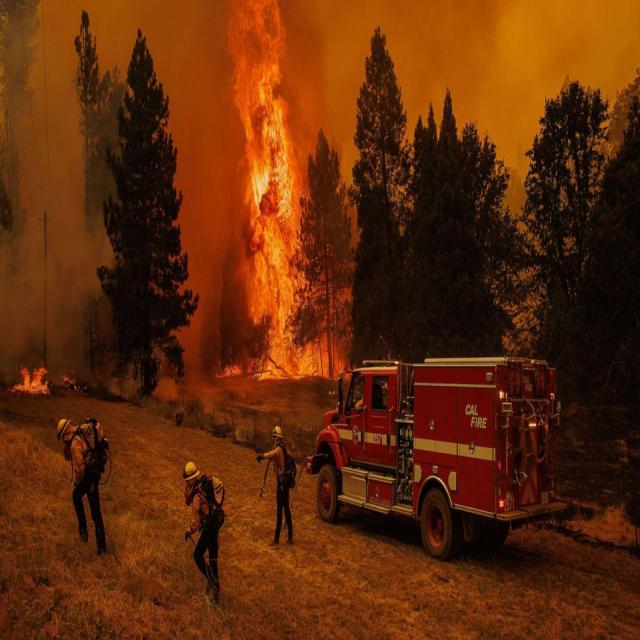Fire: (213, 0, 347, 381), (7, 360, 54, 399), (60, 376, 90, 398)
